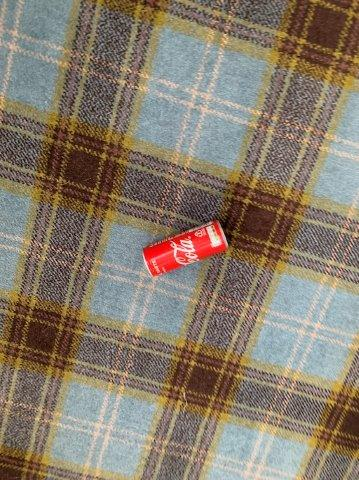kaleng: (144, 221, 228, 276)
